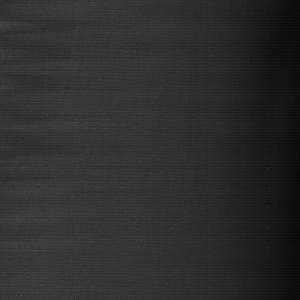Wrinkle: (1, 1, 147, 300), (179, 1, 300, 300)
